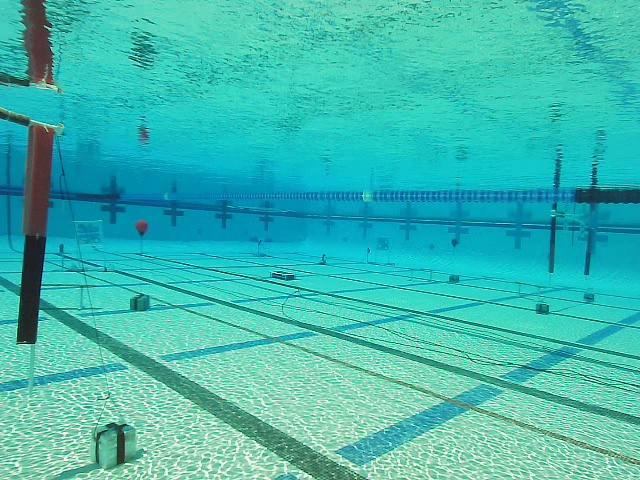buoy: (135, 219, 149, 238)
dropper: (268, 268, 297, 283)
gate_leg_l: (548, 202, 558, 272)
gate_leg_r: (15, 121, 56, 345), (584, 224, 594, 274)
table: (248, 235, 274, 258)
torpedo: (72, 219, 103, 247), (373, 236, 391, 252)
